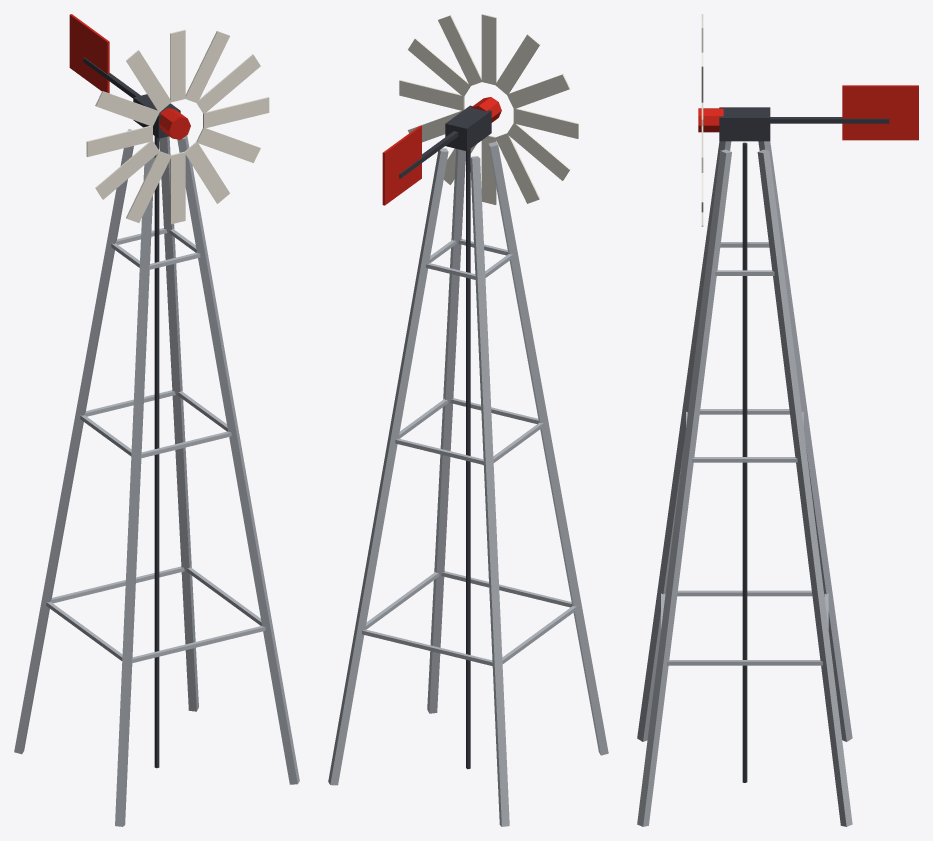
File: windmill_pump.glb
3 views of the same model, side by side, from view 1: azimuth 30°, elevation 25°; view 2: azimuth 150°, elevation 25°; view 3: azimuth 270°, elevation 25° (orthographic). The views are drawn at different scales.
Visible parts, largest first — view 1: windmill_pump; view 2: windmill_pump; view 3: windmill_pump.
Part boxes in pixels (x1,y1,x2,y2): windmill_pump: [14, 14, 299, 826]; windmill_pump: [328, 14, 608, 826]; windmill_pump: [637, 14, 918, 826].
Bounding box in the file's own units: 2.54 × 9.86 × 3.32.
